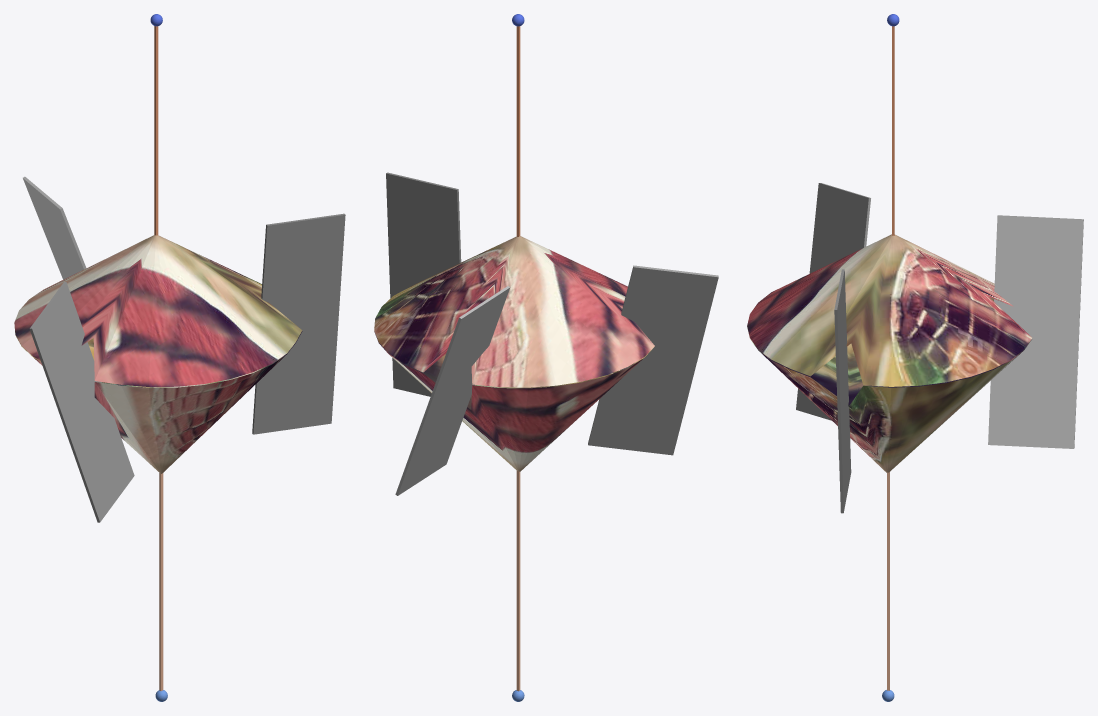
The model's file is satellite3.glb.
3 views of the same model, side by side, from view 1: azimuth 30°, elevation 25°; view 2: azimuth 150°, elevation 25°; view 3: azimuth 270°, elevation 25° (orthographic).
Parts seen in each view (by area): view 1: Cone.001, Cube.004, Cube.003, Cube.002, Cube, Cube.001; view 2: Cone.001, Cube.003, Cube.004, Cube.002, Cube, Cube.001; view 3: Cone.001, Cube.002, Cube.003, Cube.004, Cube, Cube.001.
Part boxes in pixels (x1,y1,x2,y2): Cone.001: (14, 235, 302, 473); Cube.004: (252, 213, 345, 434); Cube.003: (29, 282, 134, 522); Cube.002: (23, 176, 86, 279); Cube: (159, 473, 163, 690); Cube.001: (154, 26, 158, 235); Cone.001: (374, 236, 654, 471); Cube.003: (588, 265, 718, 455); Cube.004: (386, 172, 461, 396); Cube.002: (395, 286, 510, 495); Cube: (516, 471, 520, 691); Cube.001: (516, 26, 520, 236); Cone.001: (747, 234, 1032, 472); Cube.002: (988, 215, 1083, 448); Cube.003: (796, 183, 870, 420); Cube.004: (834, 269, 851, 513); Cube: (887, 472, 889, 690); Cube.001: (892, 26, 894, 235).
Bounding box in the file's own units: 2.59 × 5.25 × 2.34.
Materials: 8 (1 with a texture image).
